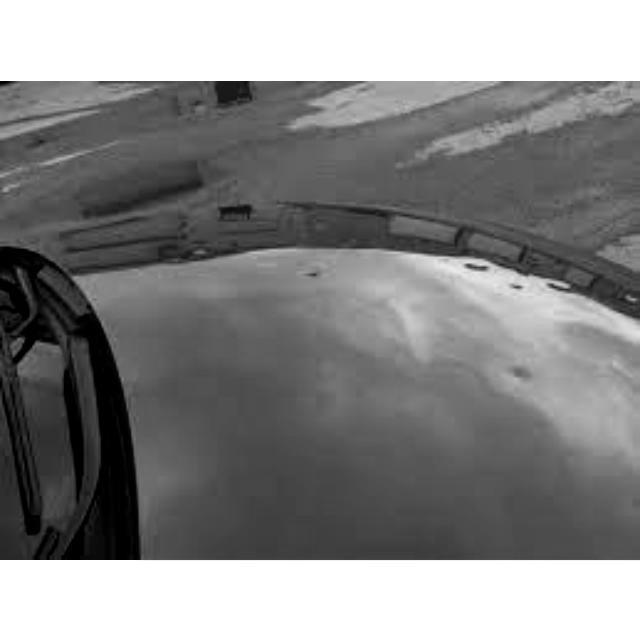bonnet-dent: (3, 197, 638, 488)
